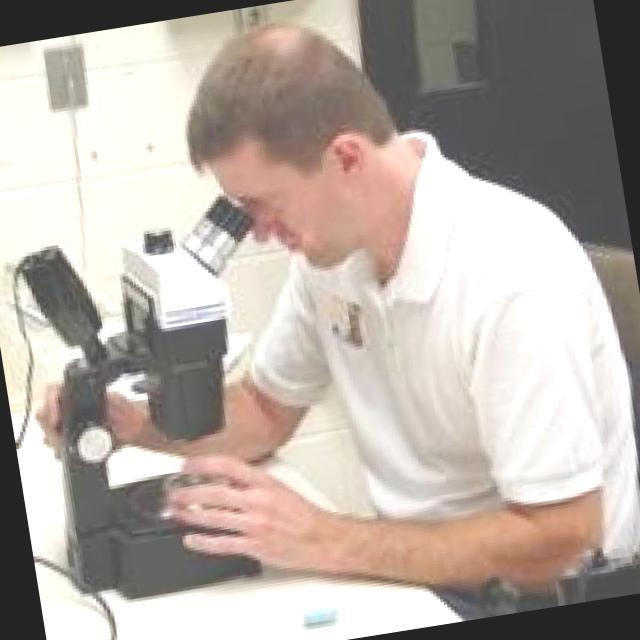no_vest: (259, 102, 640, 621)
